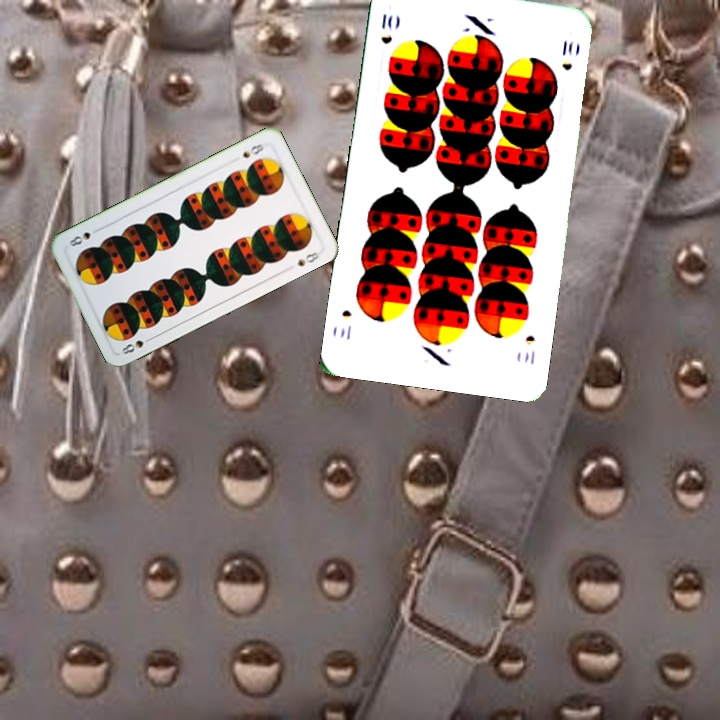S10: (377, 10, 395, 47), (520, 331, 538, 367)
S8: (117, 333, 156, 357), (238, 139, 266, 161)
